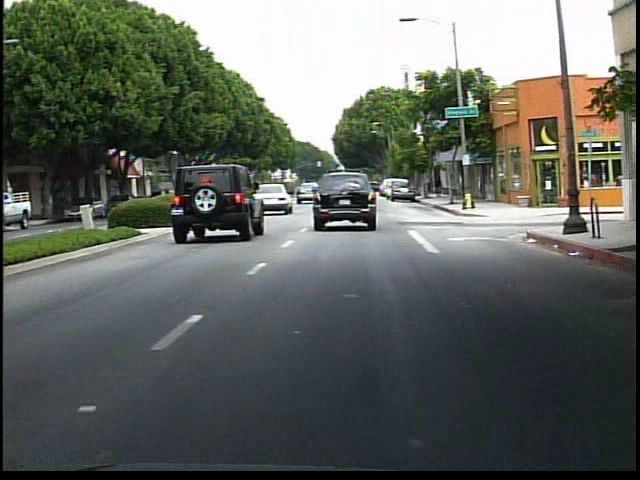person: (428, 166, 449, 202)
